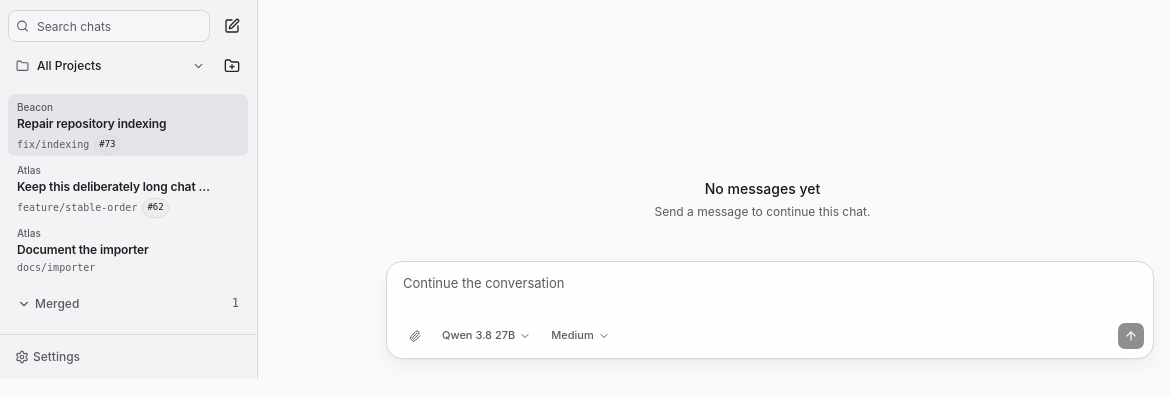
Test: New Chat clears the conversation and All Projects targets the first available project
Click the button named "New Chat": (232, 26) [216,10,248,42]
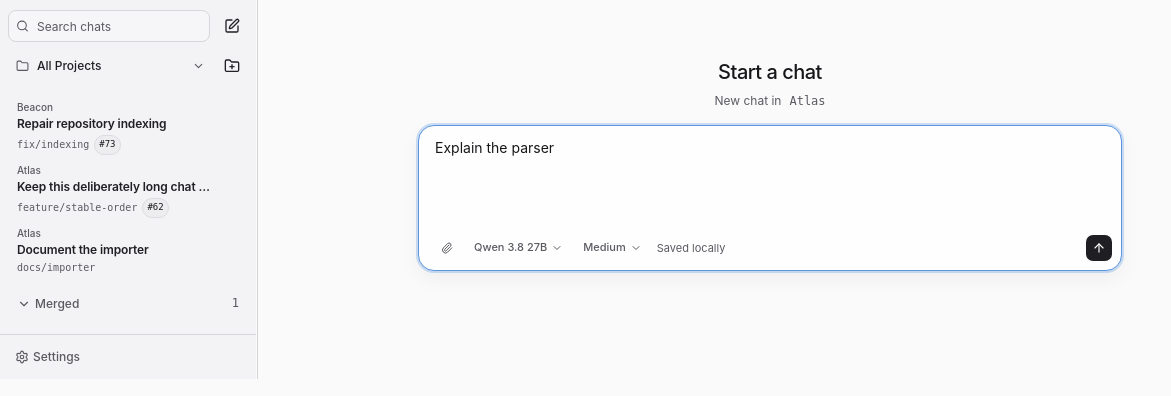
Now the heading "Start a chat" is shown, box [718,60,822,85]
Now the text "New chat in Atlas" is shown, box [714,93,826,109]
Now the text box named "Draft for Atlas" holds "Explain the parser", box [419,126,1121,230]
